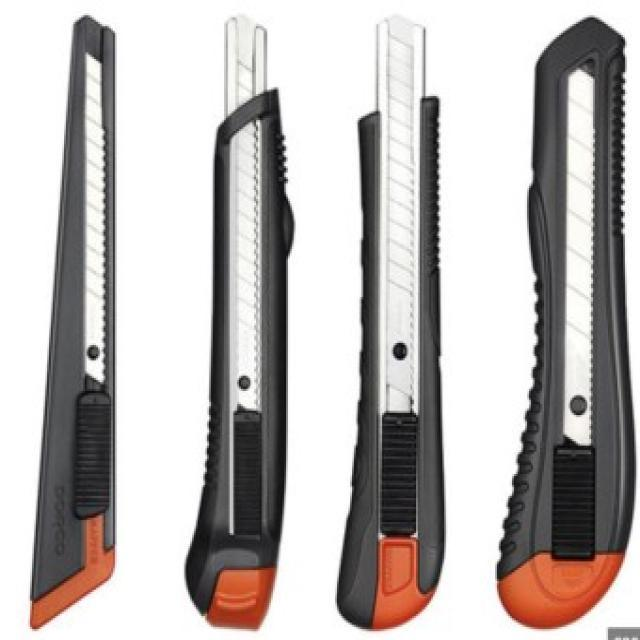cutter: (505, 0, 638, 640), (180, 0, 305, 640), (334, 0, 458, 640), (19, 0, 143, 627)
